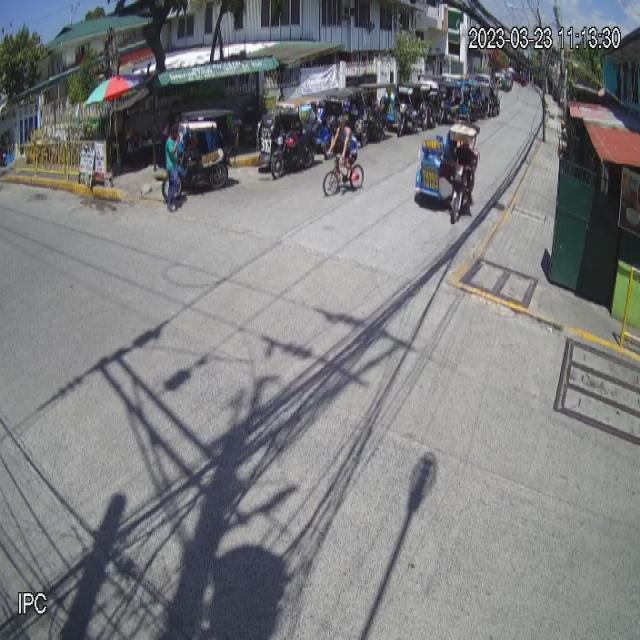Tricycle: (414, 122, 481, 224)
